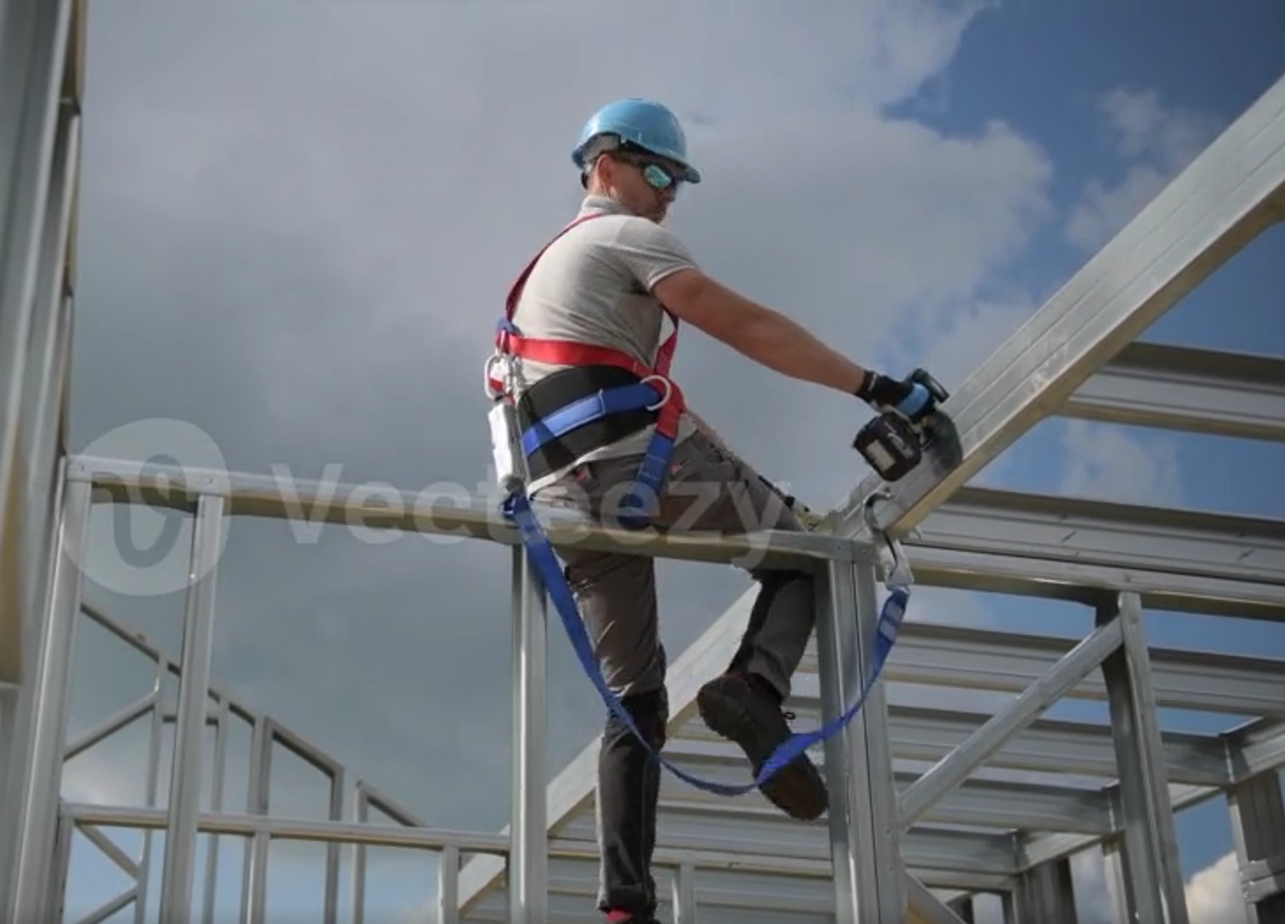safety_helmet: (571, 96, 702, 186)
